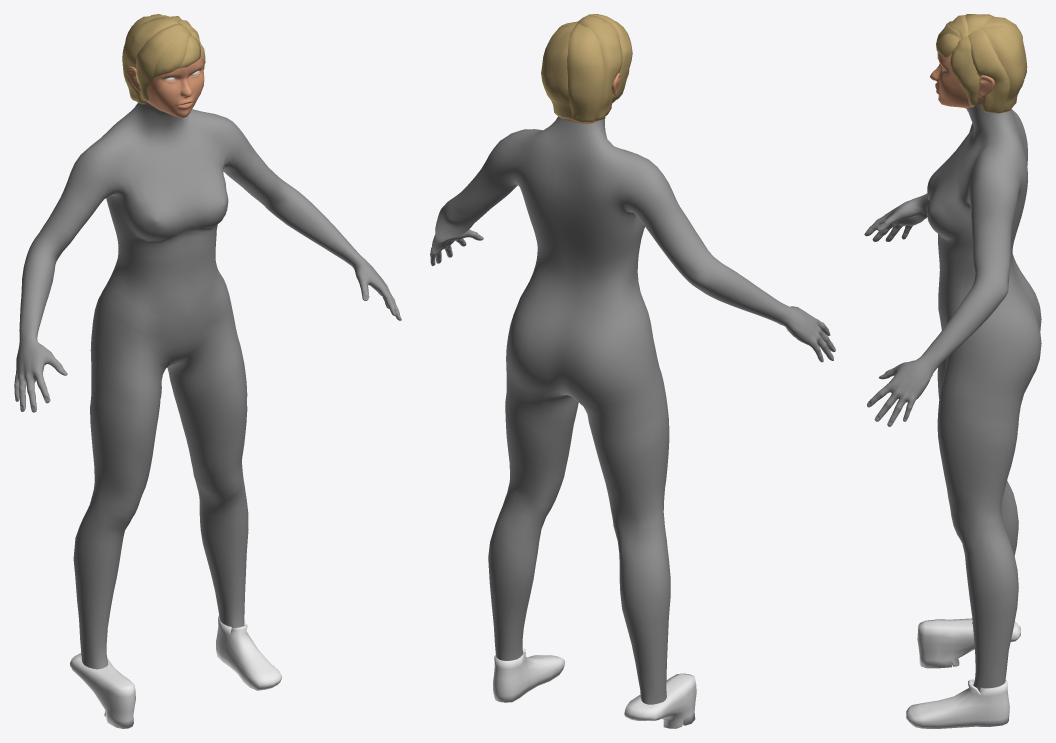
The model's file is Cl3_Full.FBX.
The picture shows the model from 3 angles, left to right: view 1: azimuth 30°, elevation 25°; view 2: azimuth 150°, elevation 25°; view 3: azimuth 270°, elevation 25°; orthographic projection. The views are drawn at different scales.
Visible parts, largest first — view 1: bodyMesh, Hair, Shoe left, Shoe Right, Head; view 2: bodyMesh, Hair, Shoe left, Shoe Right; view 3: bodyMesh, Hair, Shoe left, Shoe Right, Head.
Part boxes in pixels (box(x1,y1,x2,y2)): bodyMesh: box(14, 78, 401, 669); Hair: box(122, 14, 205, 104); Shoe left: box(216, 615, 281, 690); Shoe Right: box(70, 653, 135, 728); Head: box(126, 55, 204, 117); bodyMesh: box(430, 116, 835, 704); Hair: box(541, 14, 632, 122); Shoe left: box(493, 648, 564, 702); Shoe Right: box(624, 673, 696, 728); bodyMesh: box(864, 104, 1041, 692); Hair: box(936, 14, 1027, 113); Shoe left: box(906, 679, 1009, 728); Shoe Right: box(917, 618, 1020, 668); Head: box(930, 52, 1003, 112).
Size of the model in its own units: 86.33 by 146 by 34.46.
